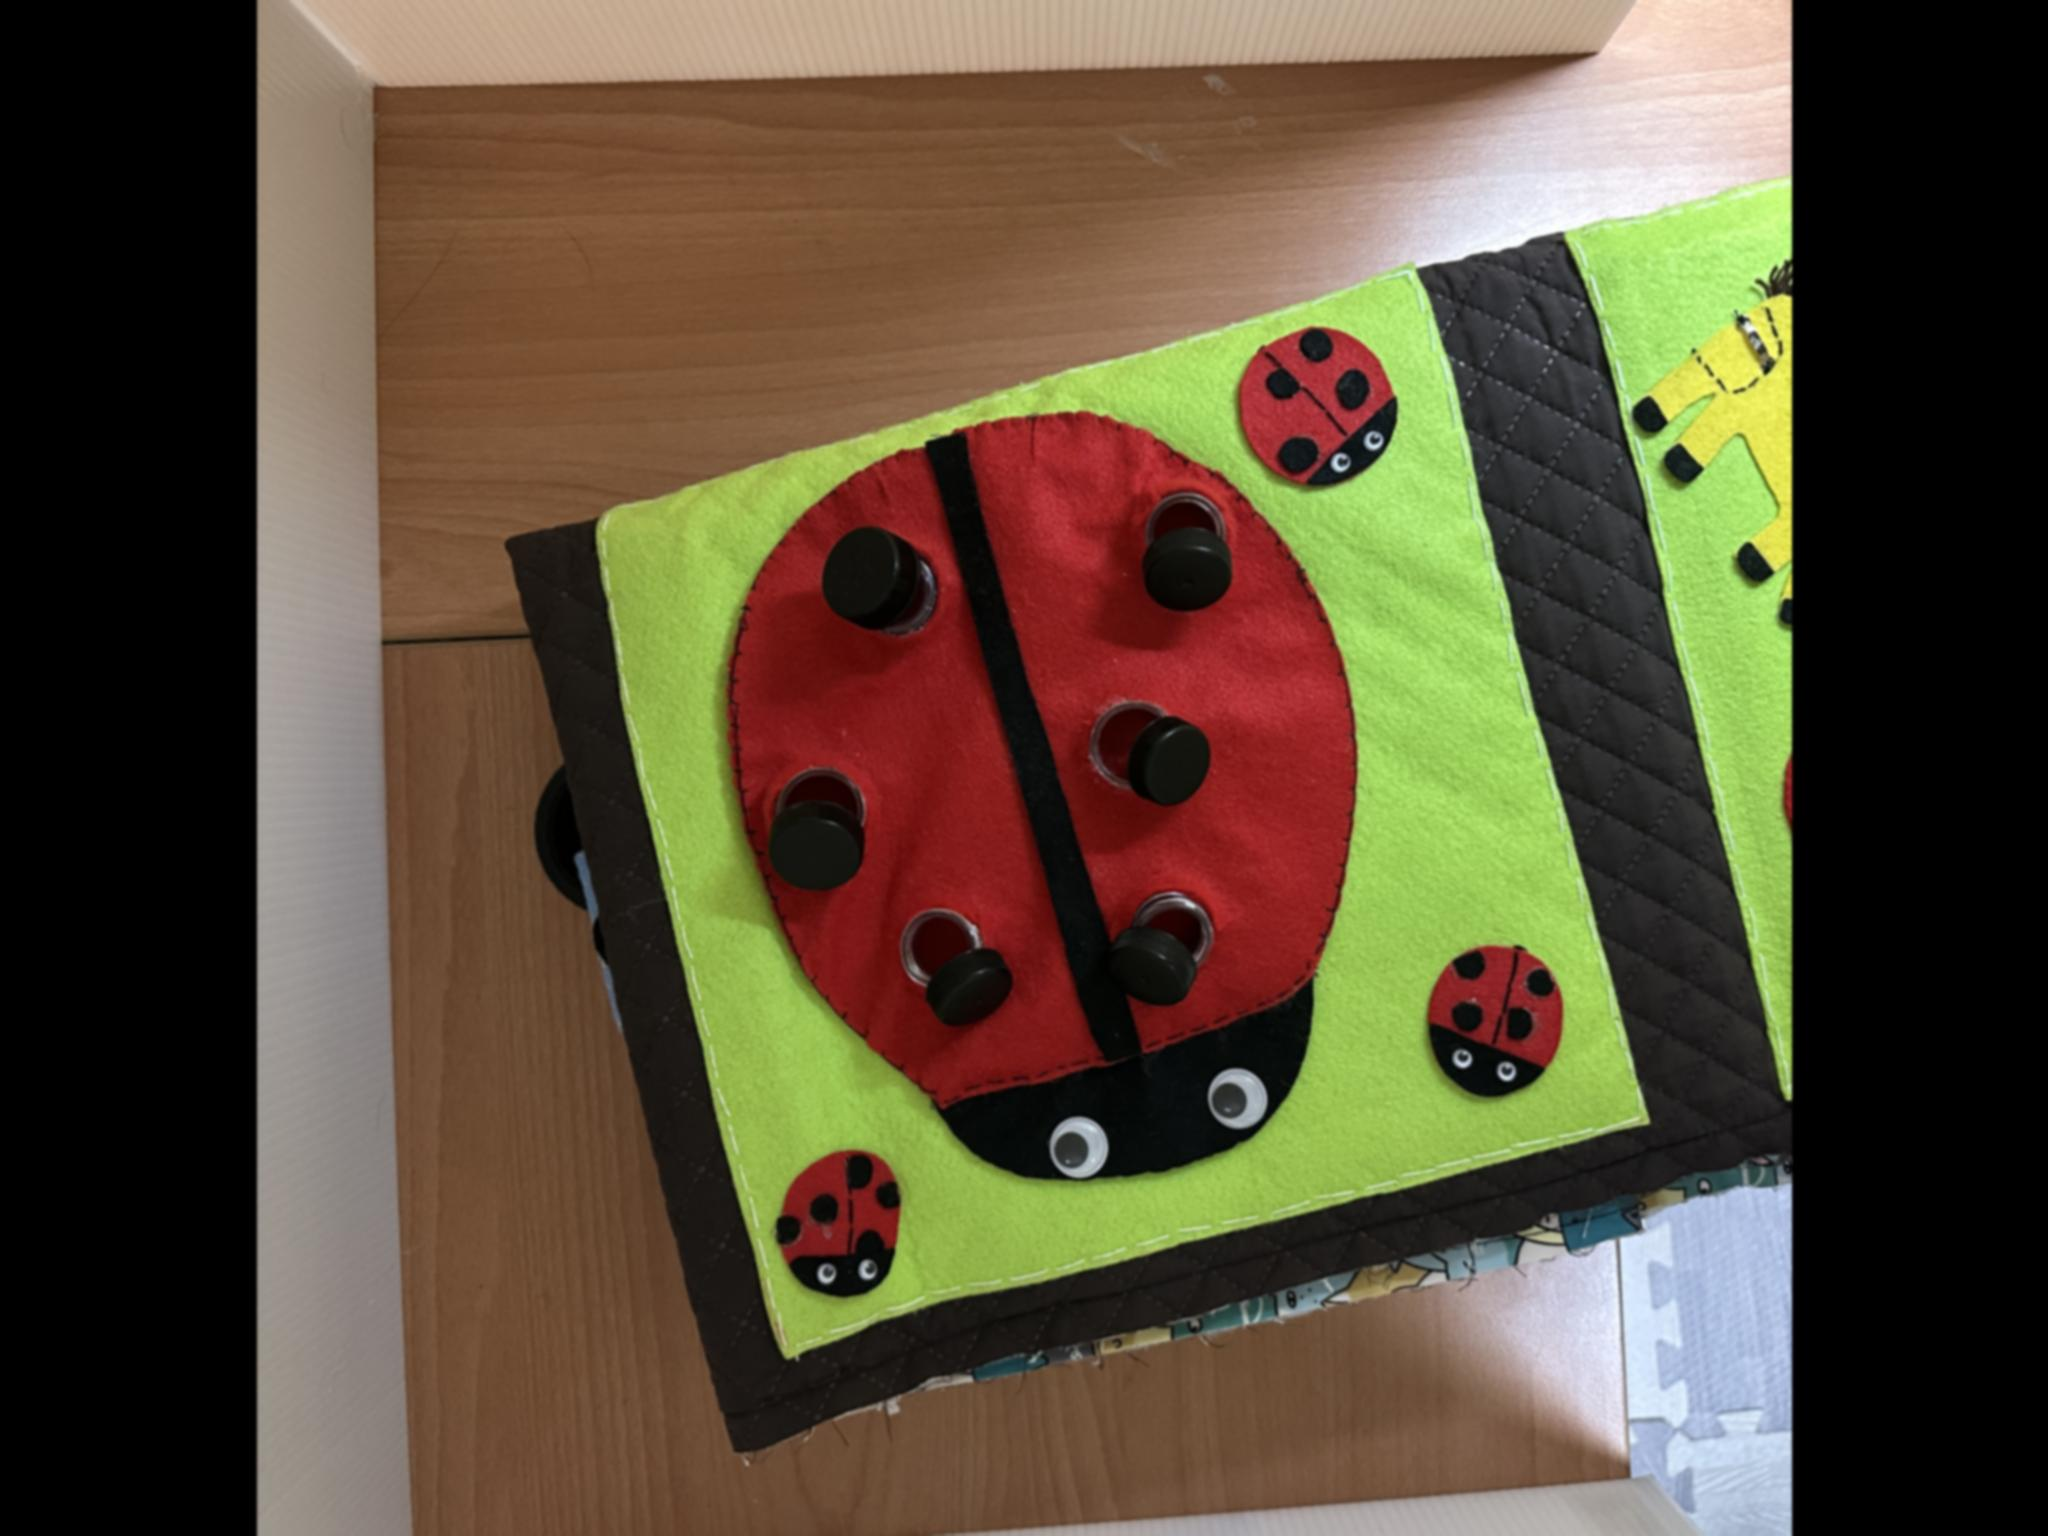cap_ng: (743, 736, 895, 908), (806, 500, 958, 670), (1109, 461, 1253, 636), (874, 884, 1022, 1046), (1087, 862, 1227, 1025), (1071, 686, 1222, 834)
